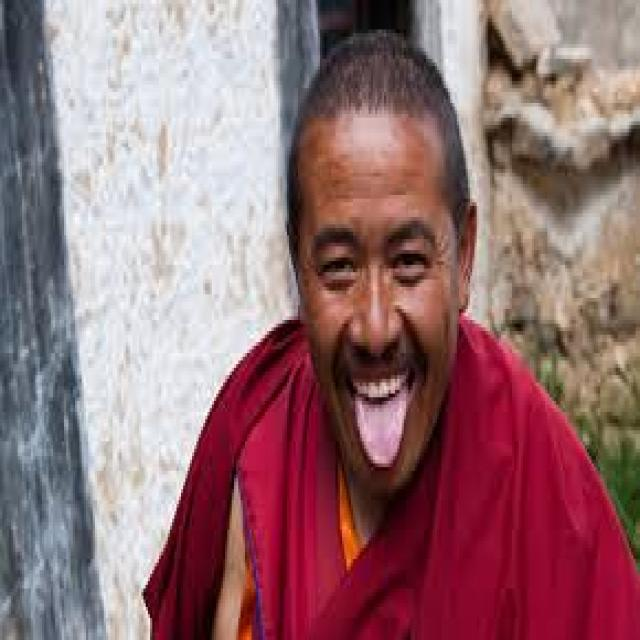tongue: (354, 396, 411, 467)
